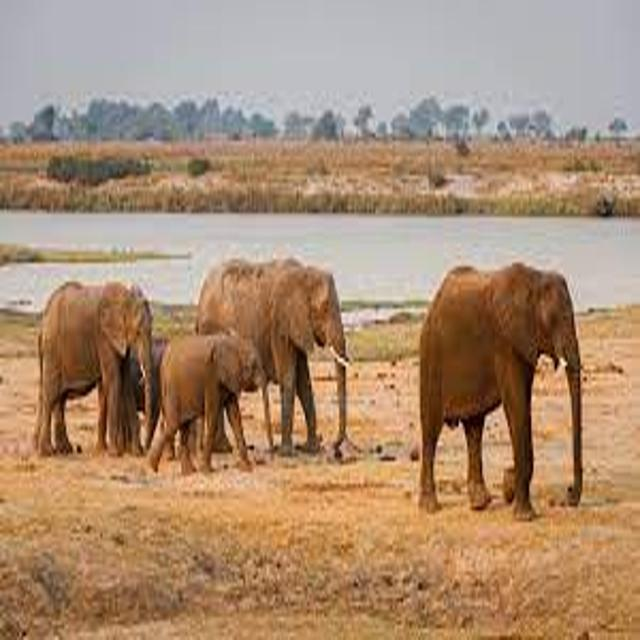elephant: (392, 233, 616, 541), (154, 233, 395, 498), (14, 263, 182, 495), (126, 302, 309, 504)
